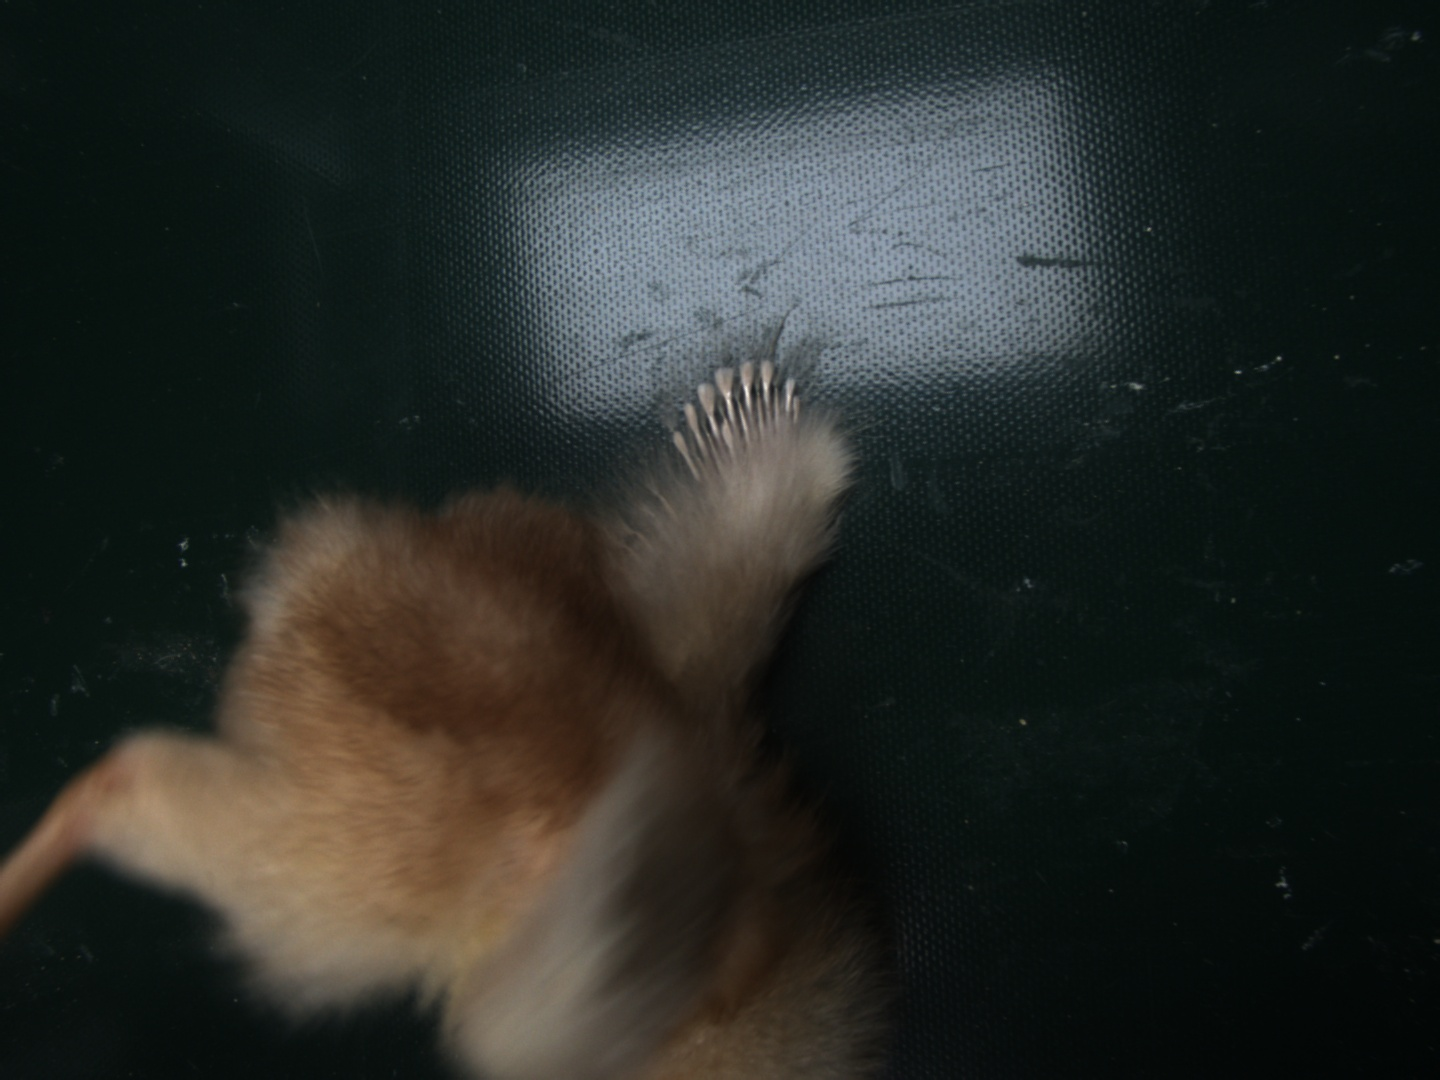female: (666, 357, 804, 488)
